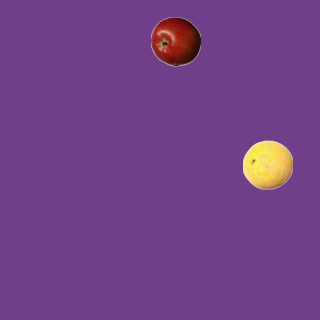Apple Braeburn: (150, 16, 200, 66)
Cantaloupe 1: (242, 139, 292, 189)
